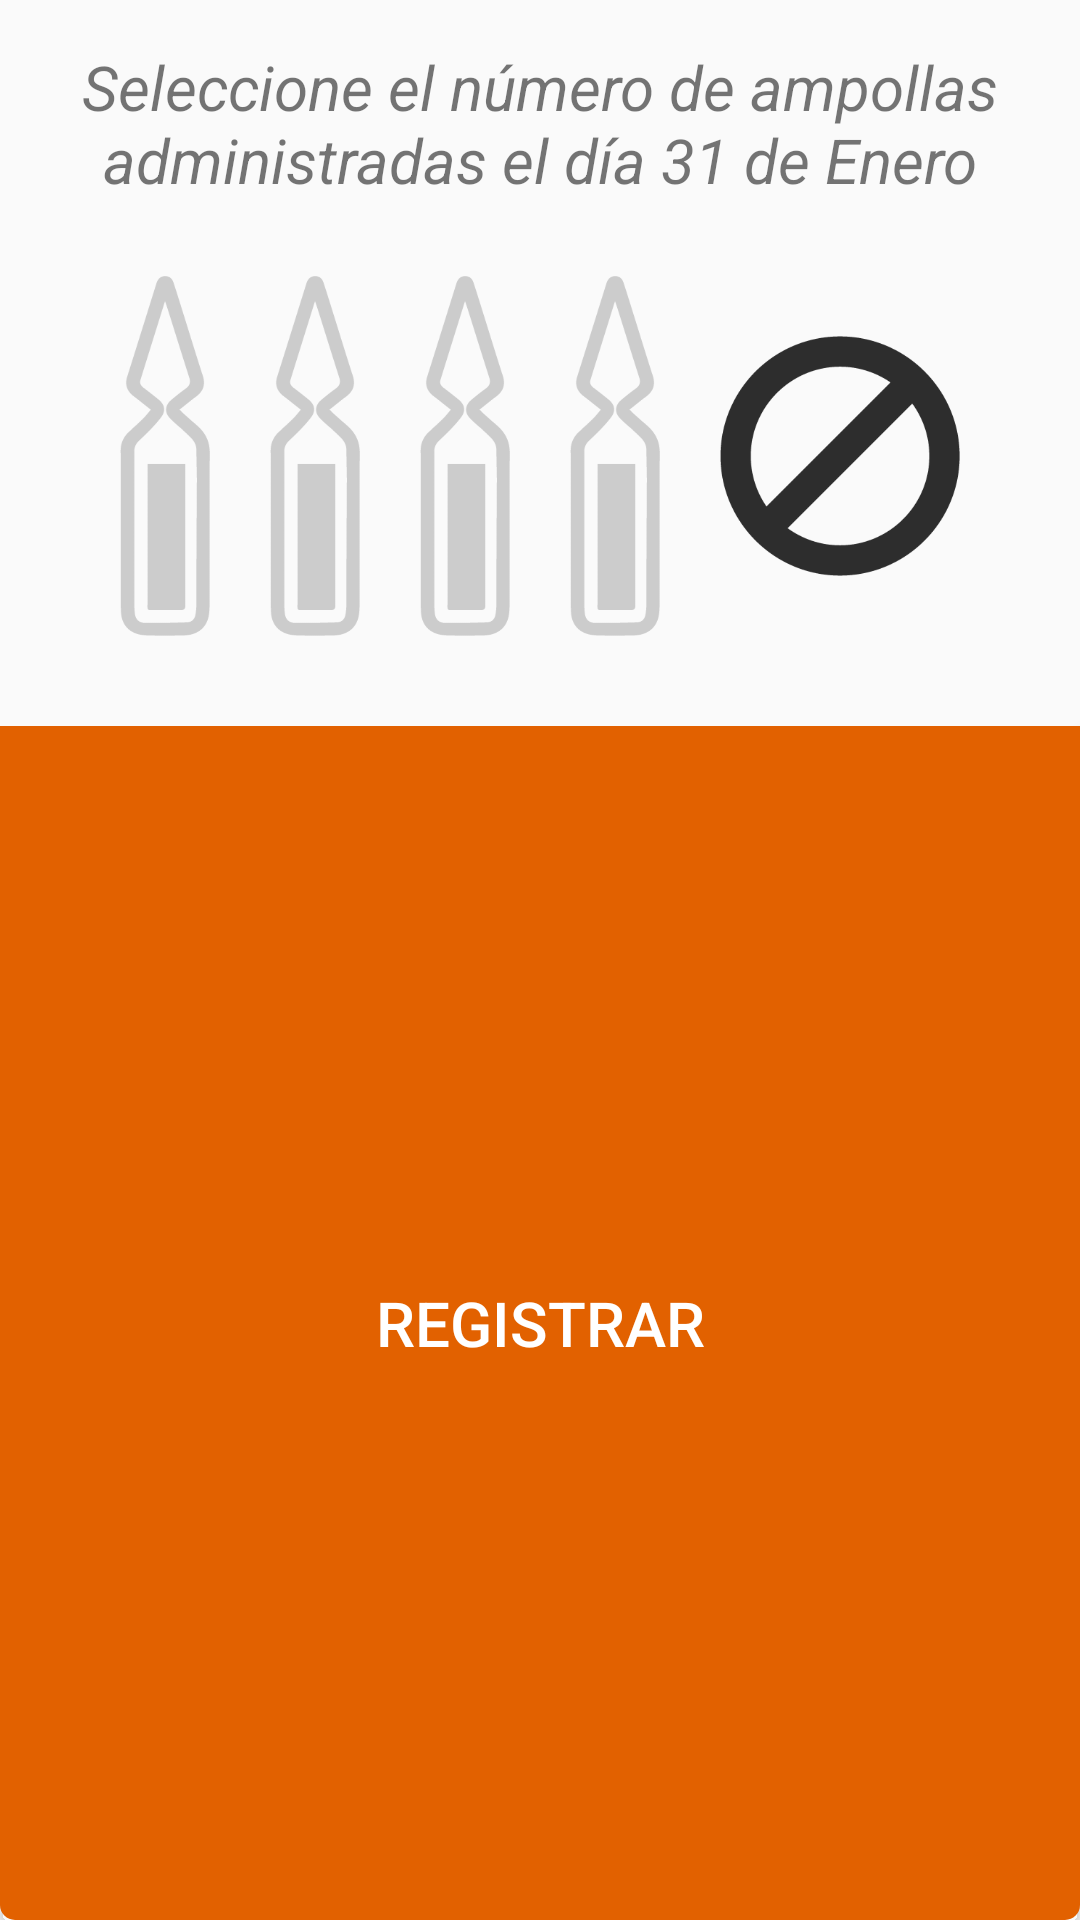

Icon click points for this 1080 x 1920 phone screenshot, format [x,y]:
ninguna grande seleccionada: [840,456]
